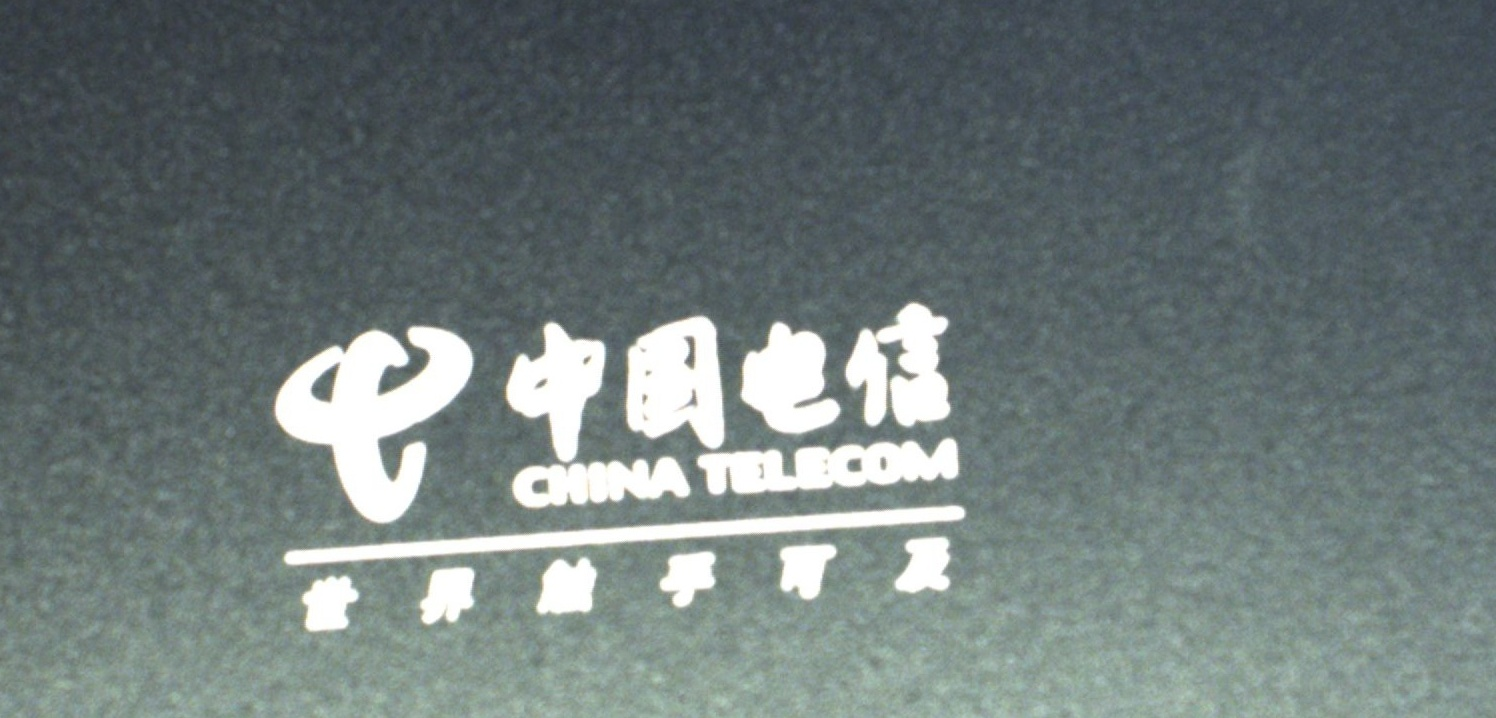AB_ChinaTelecom: (252, 297, 968, 643)
